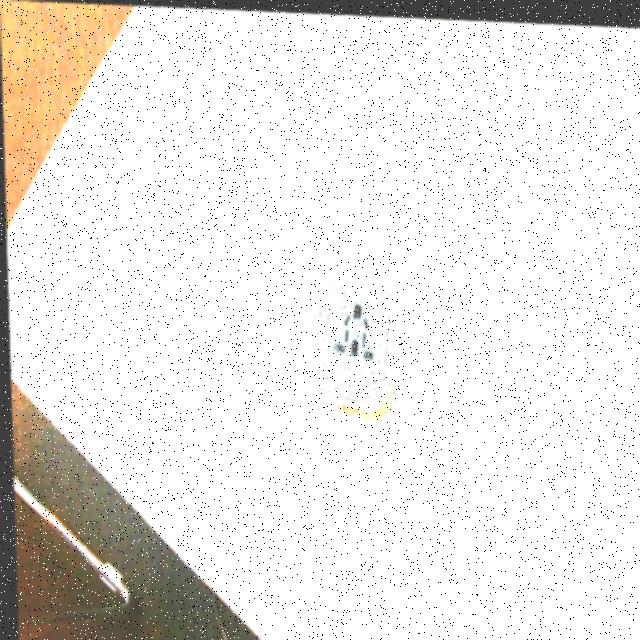adapter: (310, 283, 393, 411)
